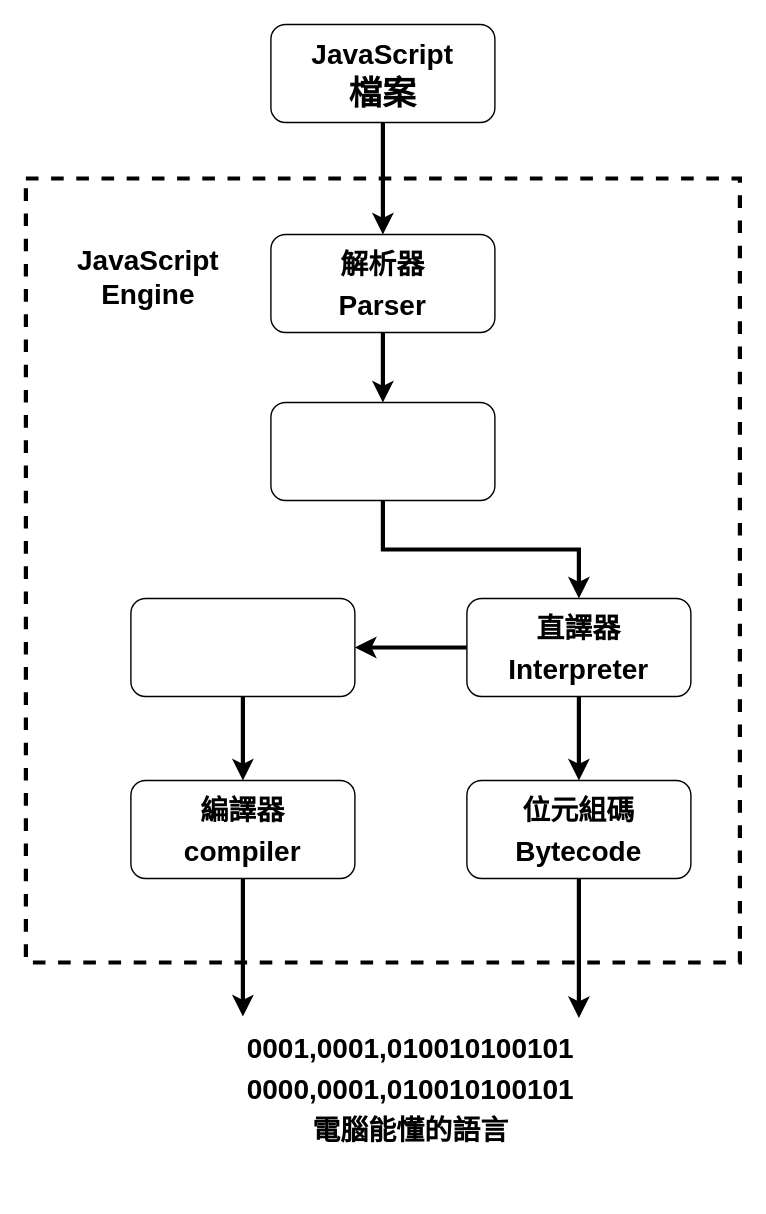
Image size: 766x1214. Some labels were removed from this diagram. The box of each missing label's shape, as (x1, y1, x2, y2) in pixels:
分析器 profiler: (130, 597, 355, 696)
抽象語法樹 AST: (270, 401, 495, 500)
